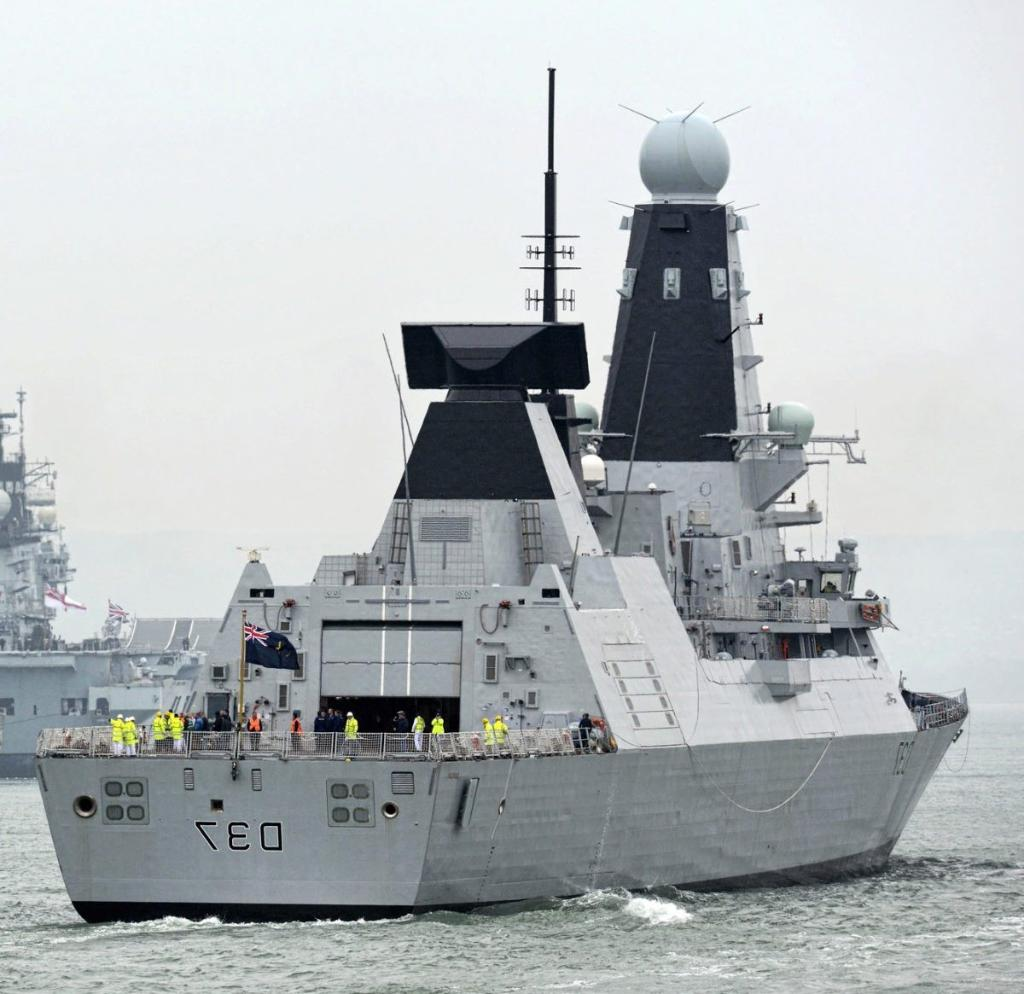Warship: (31, 67, 985, 933)
